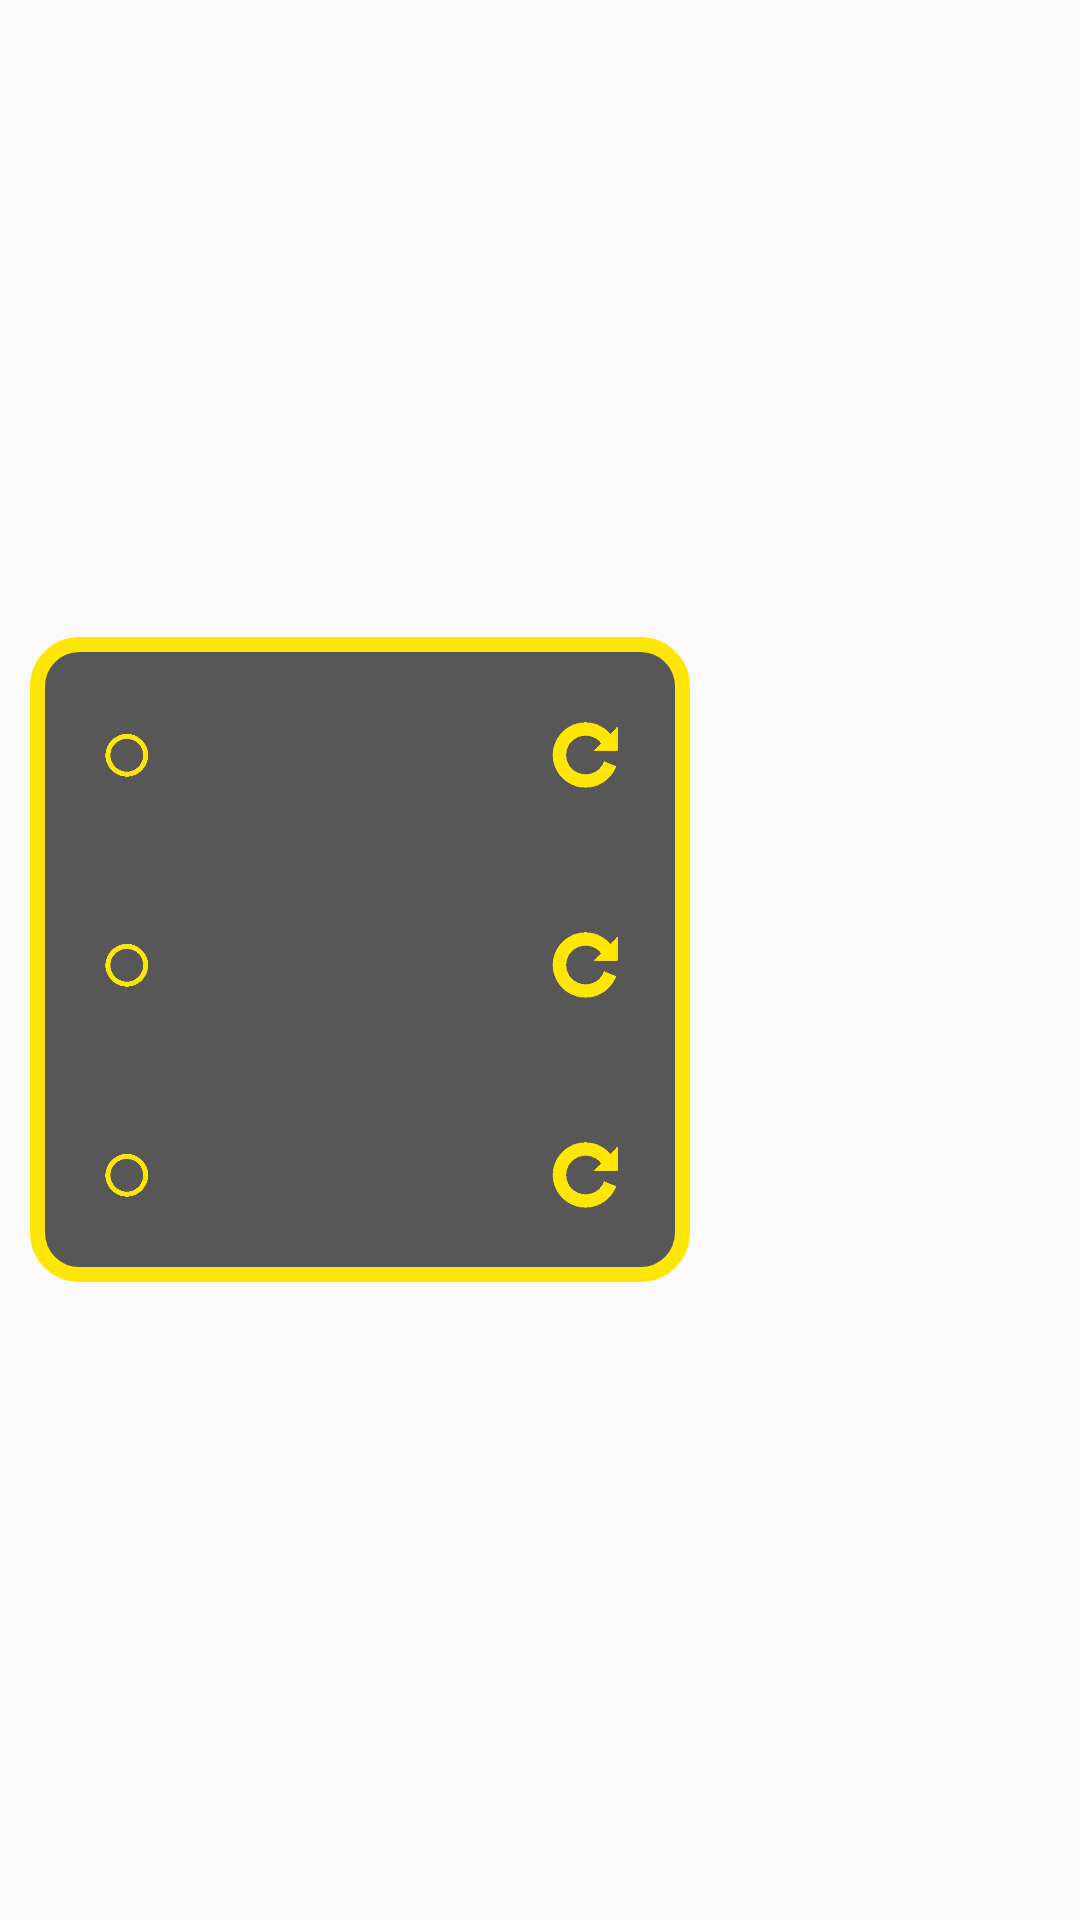

Icons on this 1080*1920 Android screen, each with its box as rect(x1, y1, x2, y2):
reroll: rect(552, 722, 618, 788), rect(552, 932, 618, 998), rect(552, 1142, 618, 1208)
